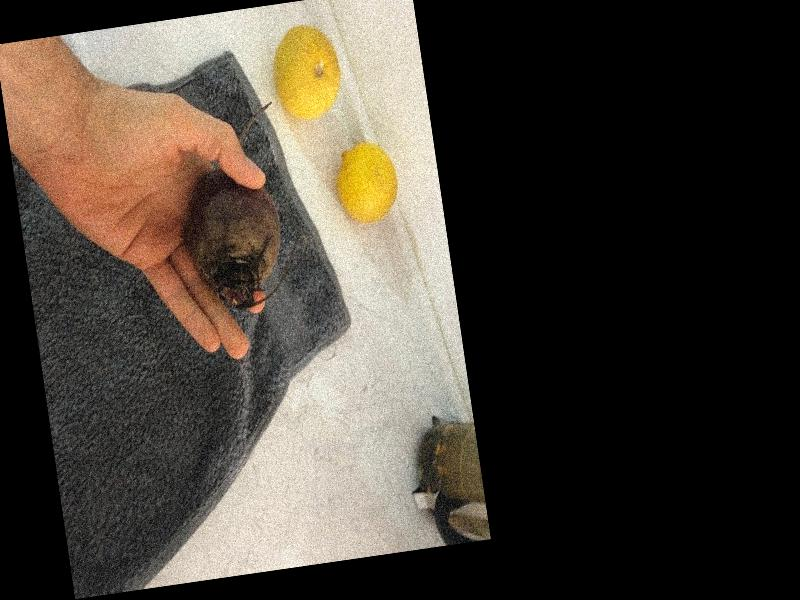Beet: (168, 100, 300, 314)
